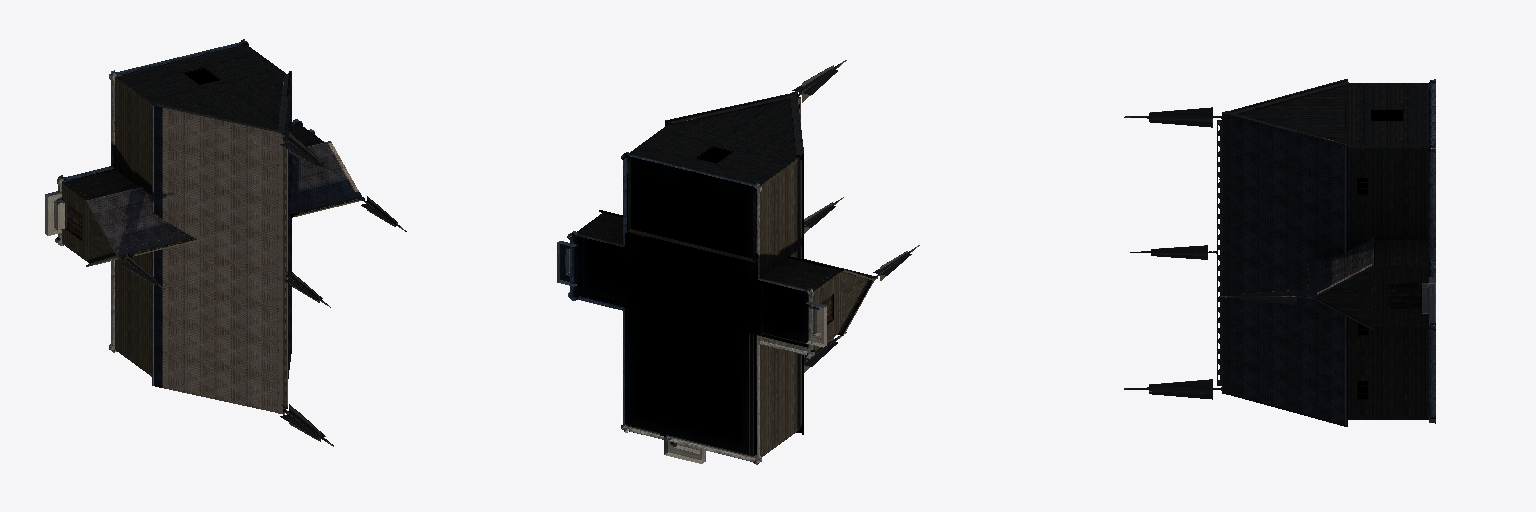
The picture shows the model from 3 angles: view 1: azimuth 30°, elevation 25°; view 2: azimuth 150°, elevation 25°; view 3: azimuth 270°, elevation 25°; orthographic projection.
Visible parts, largest first — view 1: church_model; view 2: church_model; view 3: church_model.
Part boxes in pixels (bbox=[...]): church_model: bbox=[45, 39, 406, 446]; church_model: bbox=[557, 60, 919, 464]; church_model: bbox=[1124, 79, 1435, 426].
Size of the model in its own units: 21298 by 22602 by 21461.
1 materials, 1 textured.